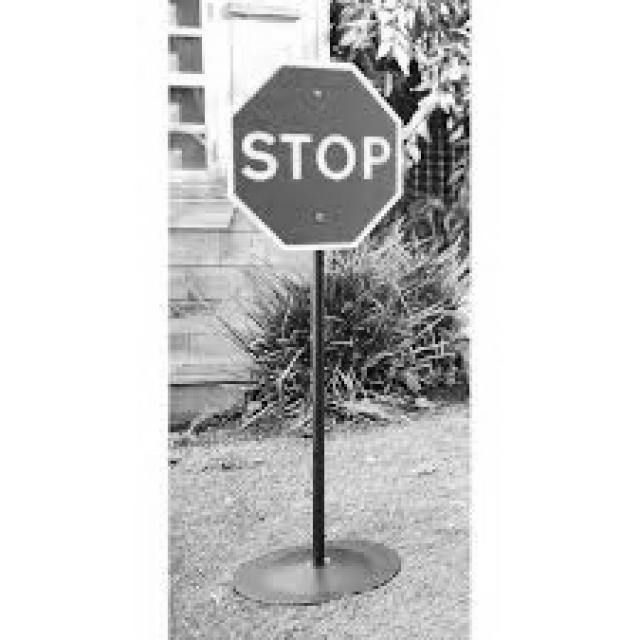stop sign: (231, 62, 404, 245)
